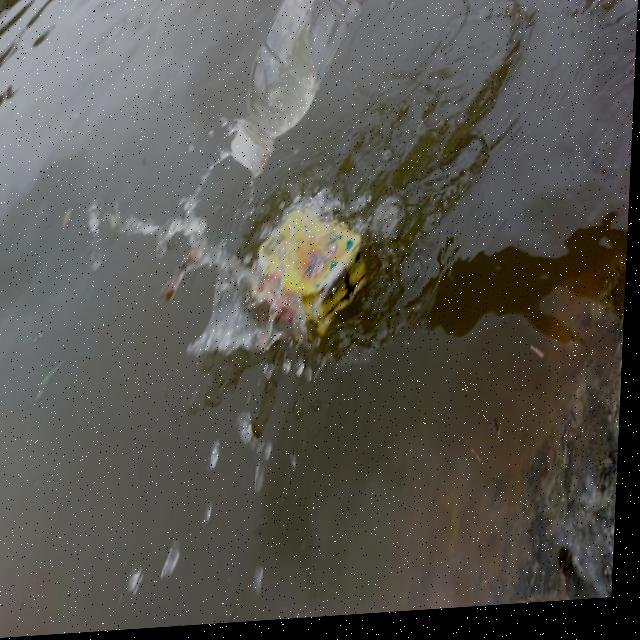paper: (242, 209, 386, 352)
waterbottle: (215, 0, 377, 187)
